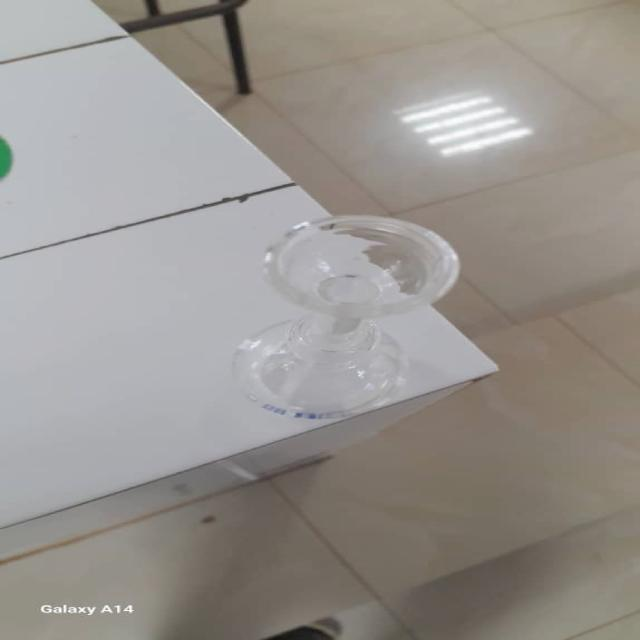Density Bottles for Solids: (221, 204, 477, 427)
